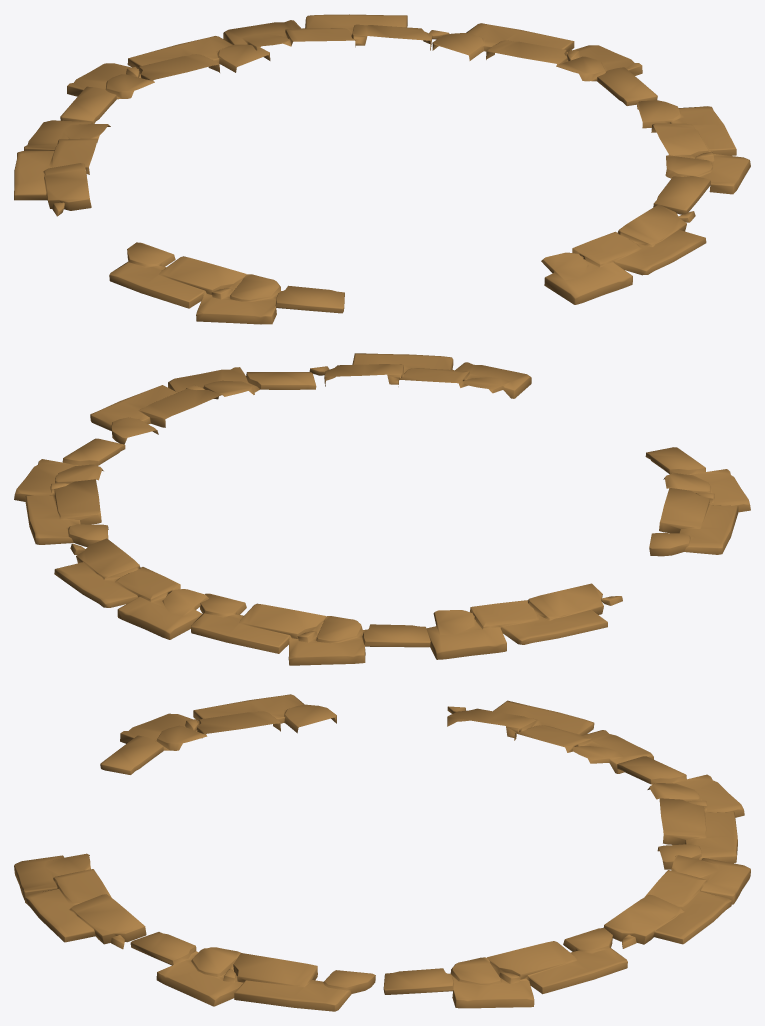
File: Well_Well_steps.FBX
The picture shows the model from 3 angles, top to bottom: view 1: azimuth 30°, elevation 25°; view 2: azimuth 150°, elevation 25°; view 3: azimuth 270°, elevation 25°; orthographic projection. The views are drawn at different scales.
Visible parts, largest first — view 1: Well_Well_steps_LOD0; view 2: Well_Well_steps_LOD0; view 3: Well_Well_steps_LOD0.
Part boxes in pixels (<box>): Well_Well_steps_LOD0: <box>14,14,750,324</box>; Well_Well_steps_LOD0: <box>14,353,750,665</box>; Well_Well_steps_LOD0: <box>14,694,750,1011</box>.
Size of what is drawn, in the model's own units: 15396 by 492 by 15419.
